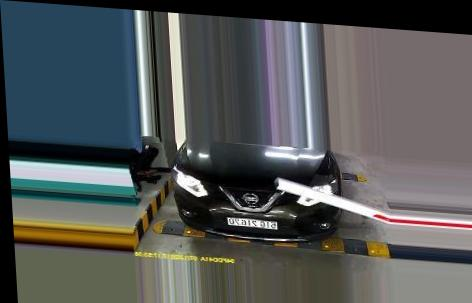License_Plate: (227, 212, 279, 231)
